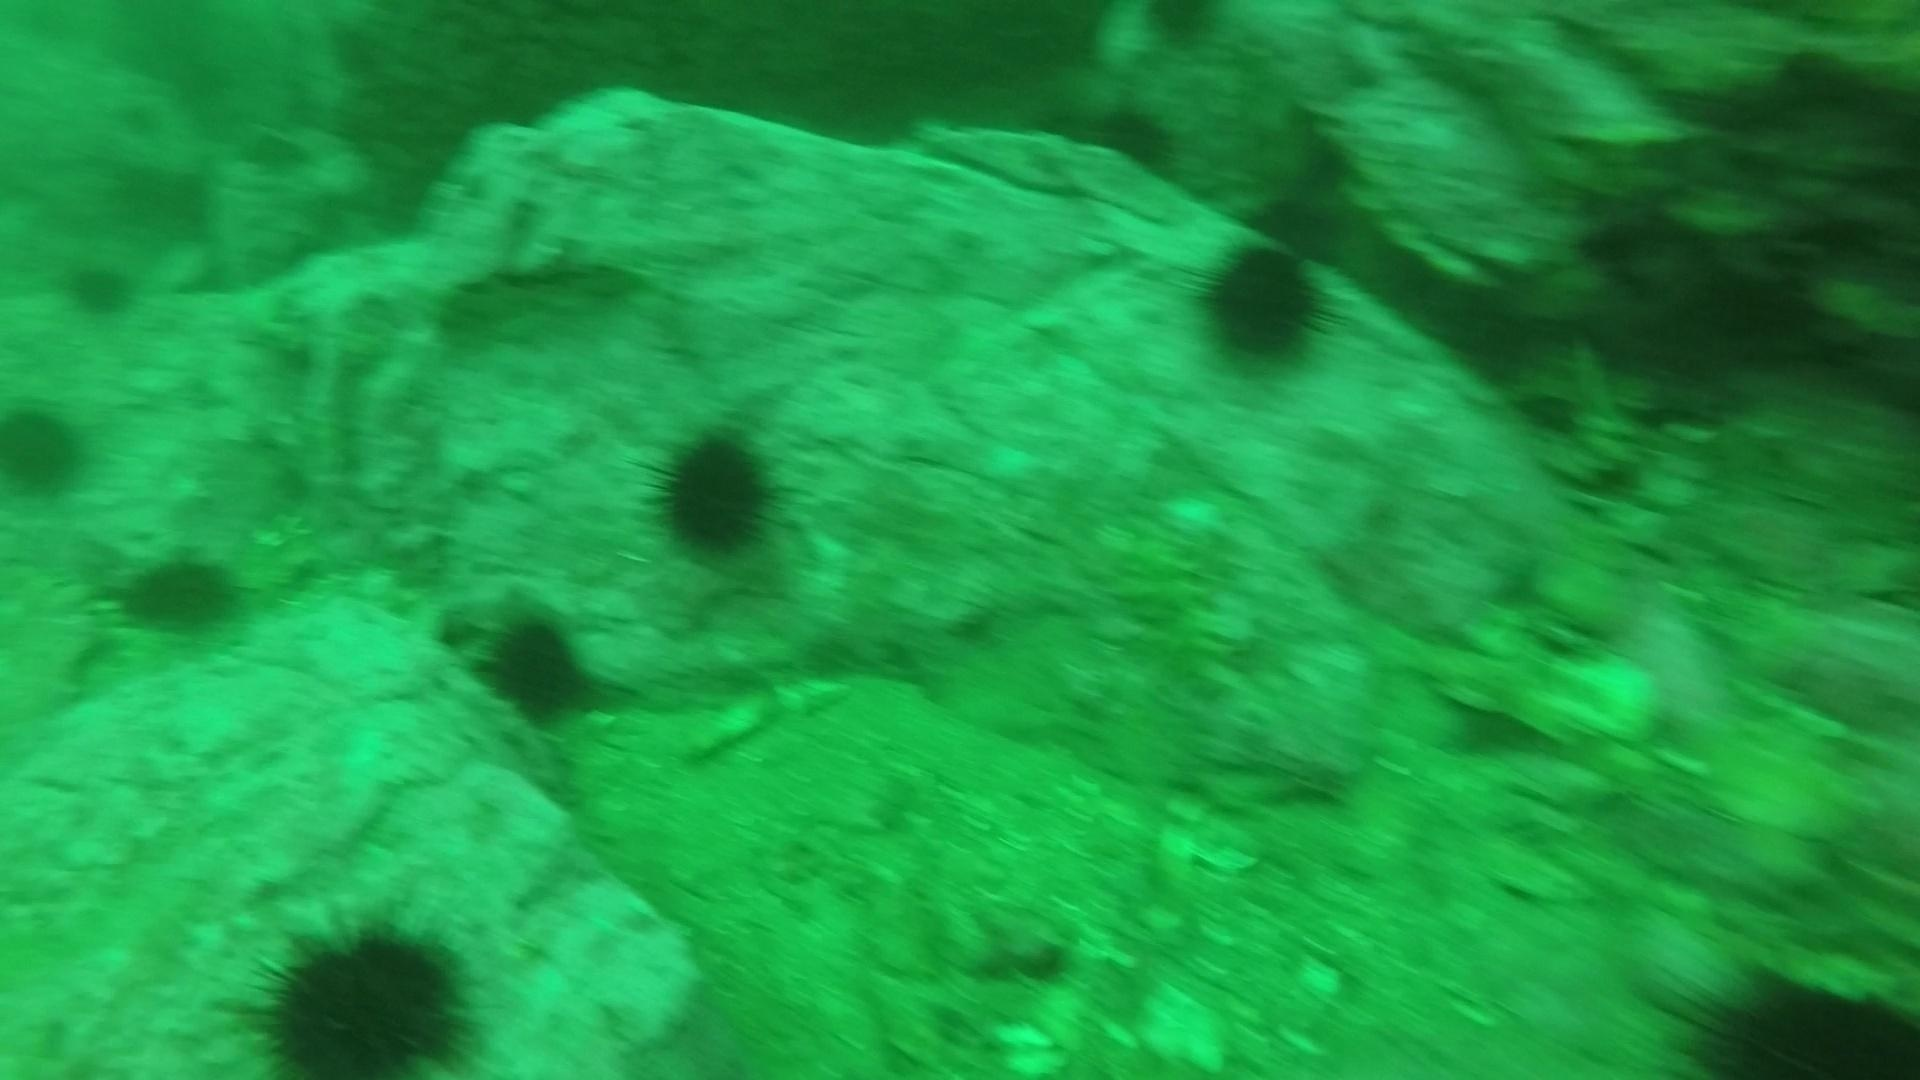echinus: (237, 907, 485, 1076), (1662, 956, 1919, 1075), (1189, 229, 1338, 372), (641, 421, 787, 562), (473, 605, 600, 728), (109, 543, 247, 641), (1, 396, 94, 502), (1089, 95, 1183, 179), (57, 252, 142, 323), (1135, 0, 1232, 53)
